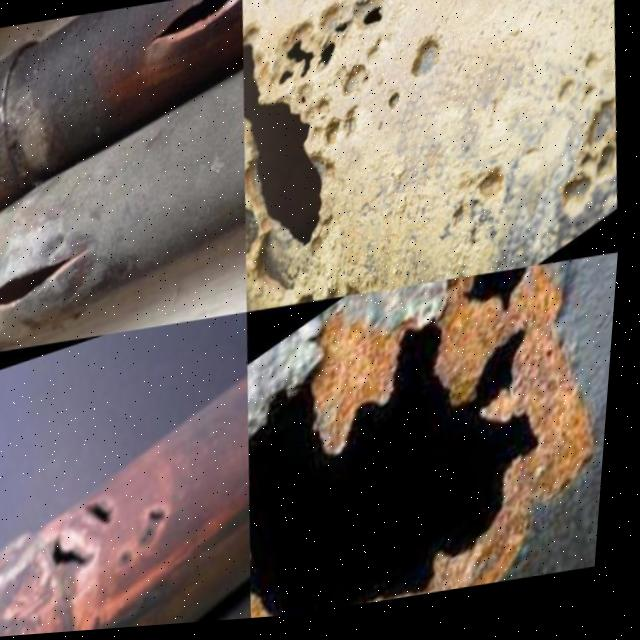hole: (234, 265, 612, 625), (232, 54, 363, 278), (233, 1, 293, 144), (449, 273, 557, 348), (307, 55, 383, 148), (40, 503, 112, 590), (116, 494, 188, 571), (398, 11, 458, 91), (242, 173, 284, 271), (282, 9, 326, 83), (84, 477, 132, 539), (354, 1, 395, 39), (313, 27, 347, 71), (327, 1, 362, 34), (274, 47, 299, 84), (385, 81, 410, 112), (531, 1, 591, 2)
rupture: (1, 228, 102, 301), (151, 1, 244, 41)
